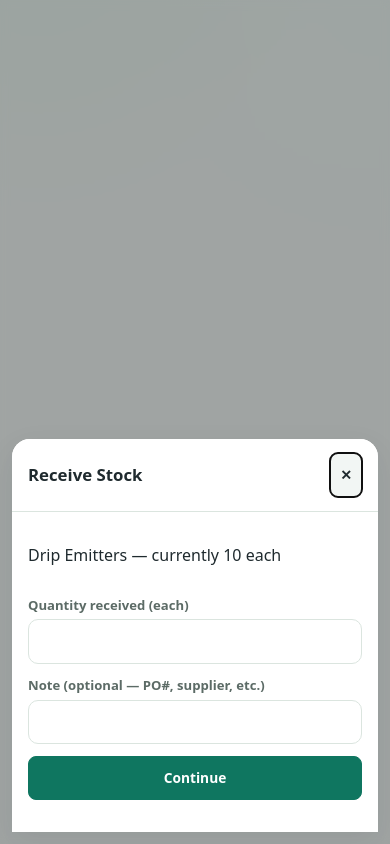
ReceiveStockSheet › rejects a non-integer quantity for a discrete (each) unit
Type "2.5" into the number field labelled "Quantity received (each)".
click(195, 642); type("2.5")  # box top-left (28, 619), bottom-right (362, 664)
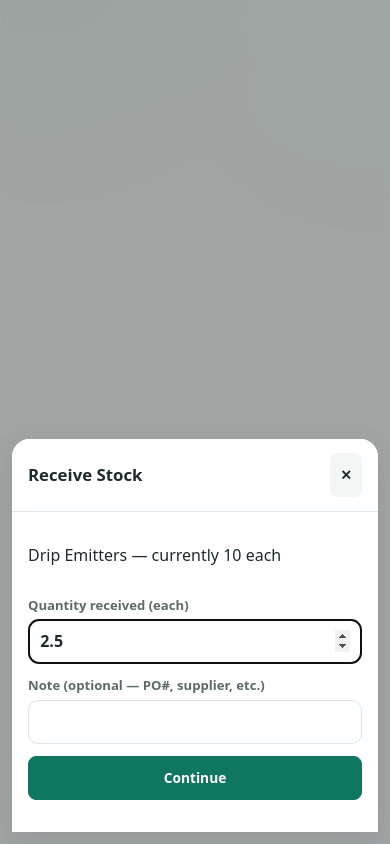
Click the button "Continue".
click(195, 778)  # box top-left (28, 756), bottom-right (362, 800)
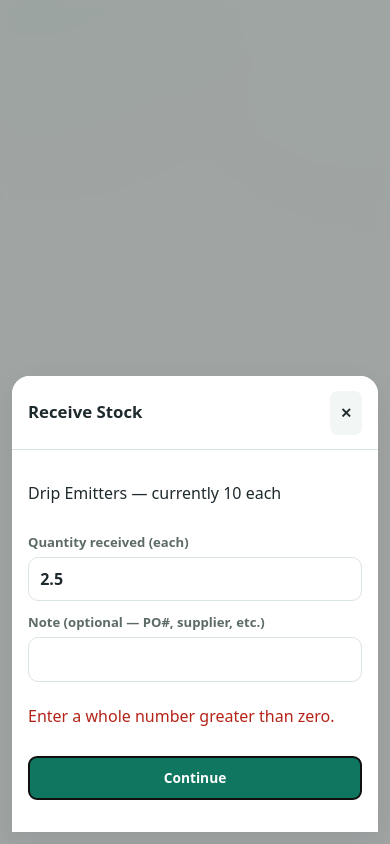
Expected: the text "Enter a whole number greater than zero." is shown, top-left (28, 705), bottom-right (362, 728)
